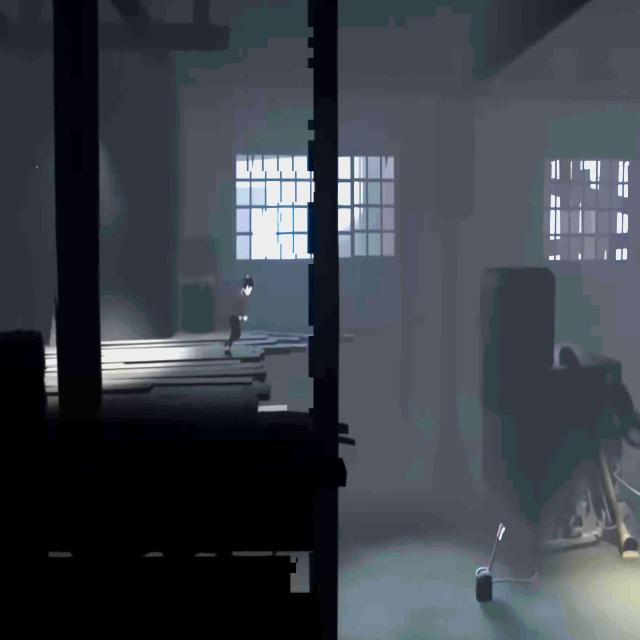boy: (224, 274, 253, 348)
